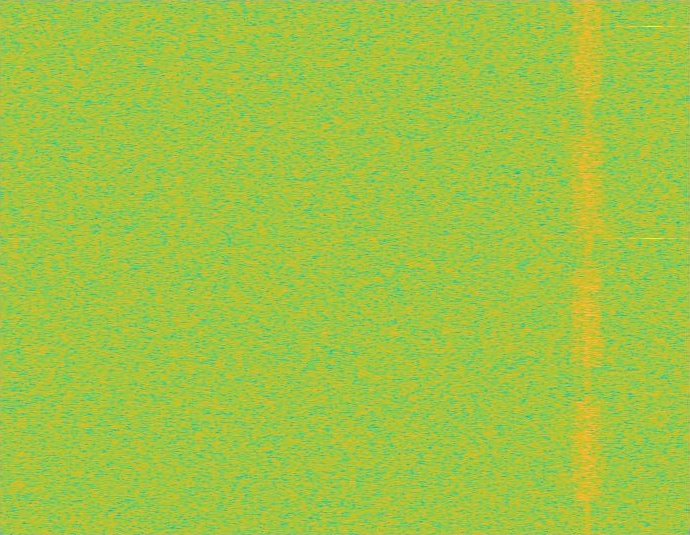5G: (570, 0, 605, 534)
DSSS: (584, 0, 591, 534)
Radar: (645, 0, 659, 534)
